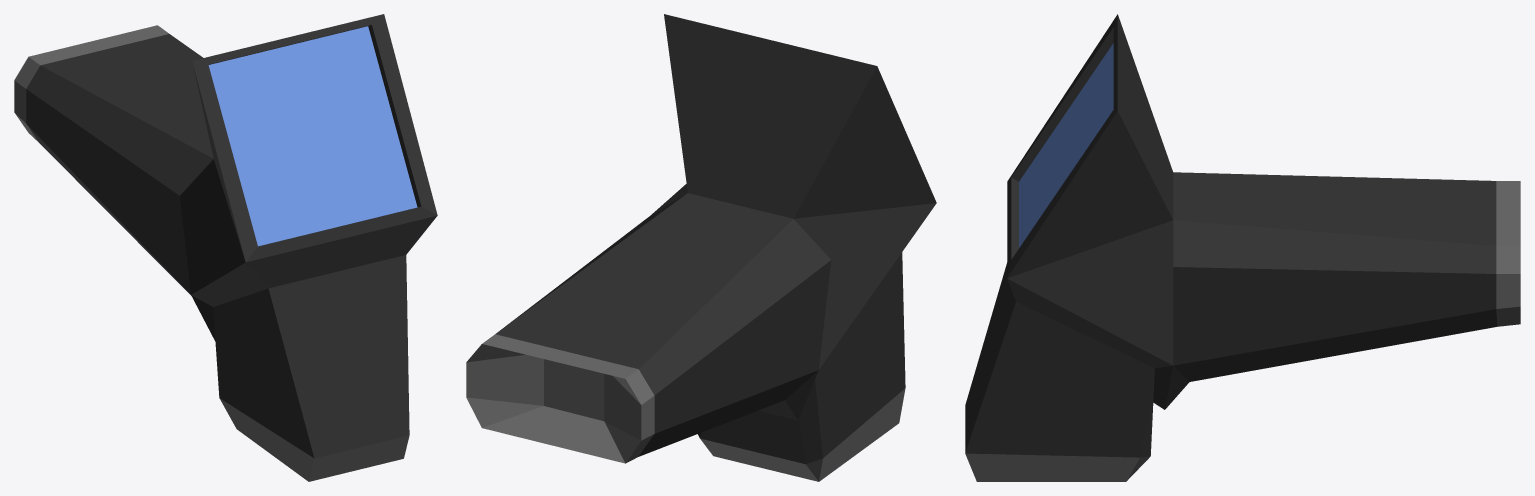
Rendered from Scanner.glb.
The picture shows the model from 3 angles, left to right: view 1: azimuth 30°, elevation 25°; view 2: azimuth 150°, elevation 25°; view 3: azimuth 270°, elevation 25°; orthographic projection. The views are drawn at different scales.
Visible parts, largest first — view 1: Cube; view 2: Cube; view 3: Cube.
Part boxes in pixels (box(x1,y1,x2,y2)): Cube: box(14, 14, 437, 481); Cube: box(466, 14, 936, 481); Cube: box(965, 14, 1520, 481).
Bounding box in the file's own units: 0.1133 × 0.216 × 0.2749.
